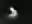person: (9, 7, 20, 20)
